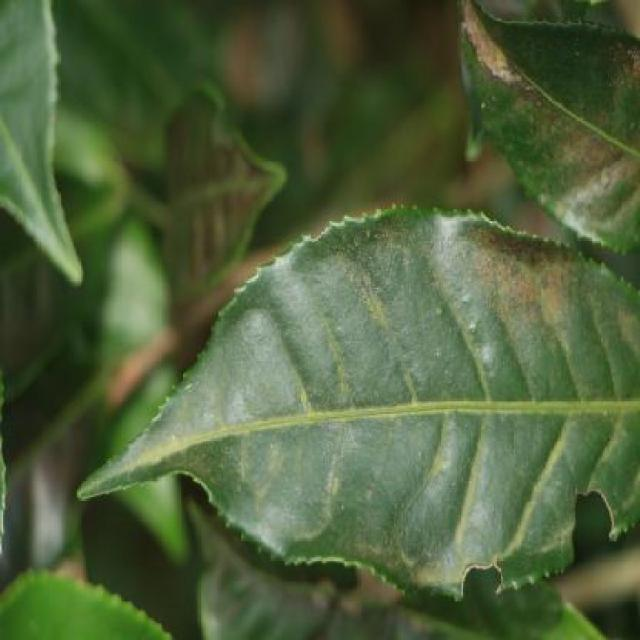Red Spider infested tea leaf: (86, 206, 640, 602)
